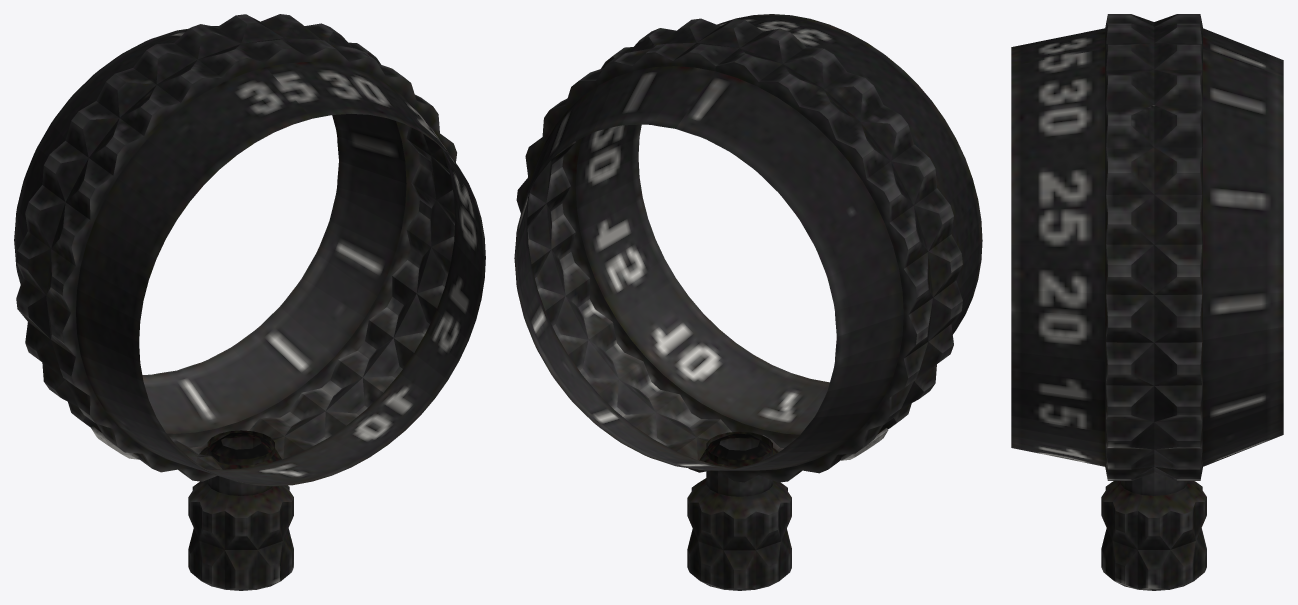
3 renders of one model, left to right at view 1: azimuth 30°, elevation 25°; view 2: azimuth 150°, elevation 25°; view 3: azimuth 270°, elevation 25°, orthographic.
Parts seen in each view (by area): view 1: TW_5aa66be6e5b5b0214e506e97_PZ_Import; view 2: TW_5aa66be6e5b5b0214e506e97_PZ_Import; view 3: TW_5aa66be6e5b5b0214e506e97_PZ_Import.
Part boxes in pixels (x1,y1,x2,y2): TW_5aa66be6e5b5b0214e506e97_PZ_Import: (14, 14, 485, 590); TW_5aa66be6e5b5b0214e506e97_PZ_Import: (514, 14, 982, 590); TW_5aa66be6e5b5b0214e506e97_PZ_Import: (1011, 14, 1283, 590).
Size of the model in its own units: 0.0268 by 0.0156 by 0.0339.
1 material, 1 textured.
